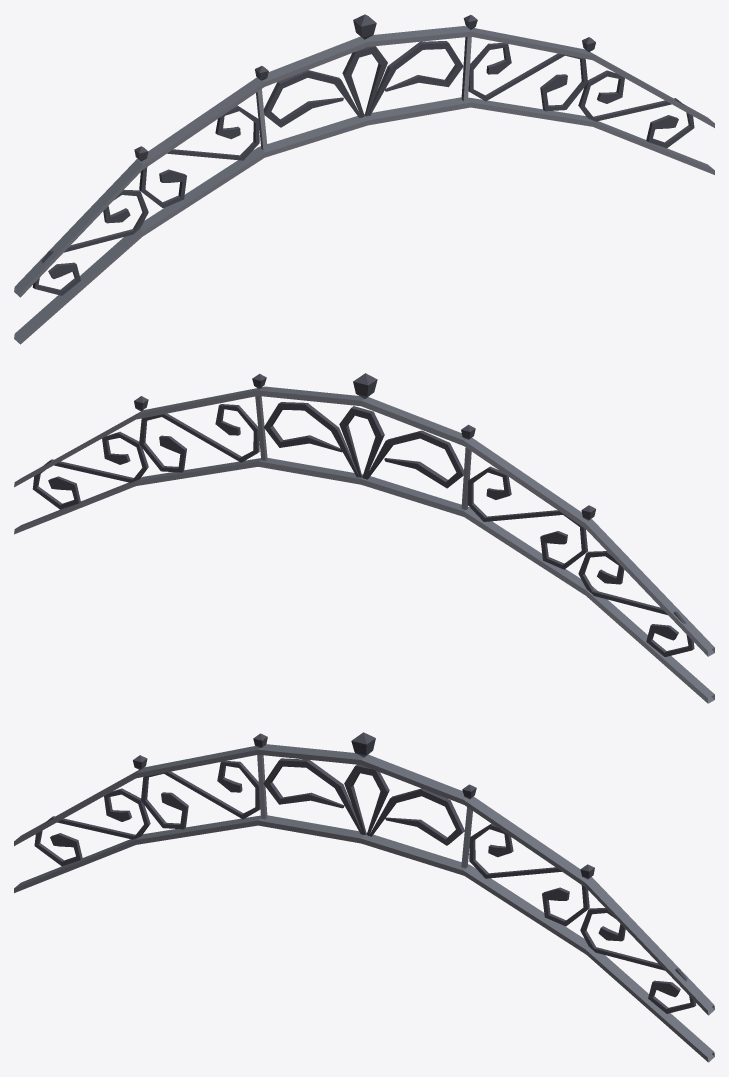
The model's file is HWN20_IronEntranceArch_01.glb.
3 views of the same model, one above another, from view 1: azimuth 30°, elevation 25°; view 2: azimuth 150°, elevation 25°; view 3: azimuth 330°, elevation 25° (orthographic).
Parts seen in each view (by area): view 1: HWN20_IronEntranceArch_01; view 2: HWN20_IronEntranceArch_01; view 3: HWN20_IronEntranceArch_01.
Part boxes in pixels (left/top/right/bottom): HWN20_IronEntranceArch_01: left=14, top=14, right=714, bottom=344; HWN20_IronEntranceArch_01: left=14, top=373, right=714, bottom=703; HWN20_IronEntranceArch_01: left=14, top=732, right=714, bottom=1062.
Size of what is drawn, in the model's own units: 9.21 by 3.09 by 0.204.
Materials: 1 (1 with a texture image).
